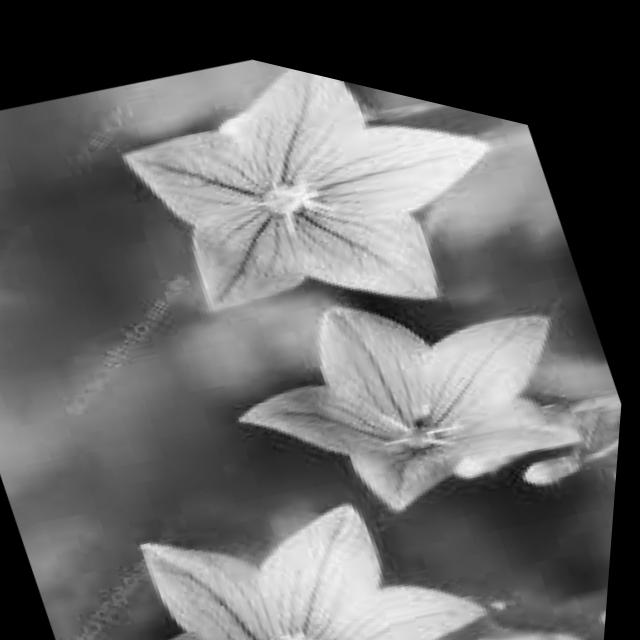Flower: (75, 18, 522, 406), (210, 181, 618, 568), (96, 395, 525, 640)
